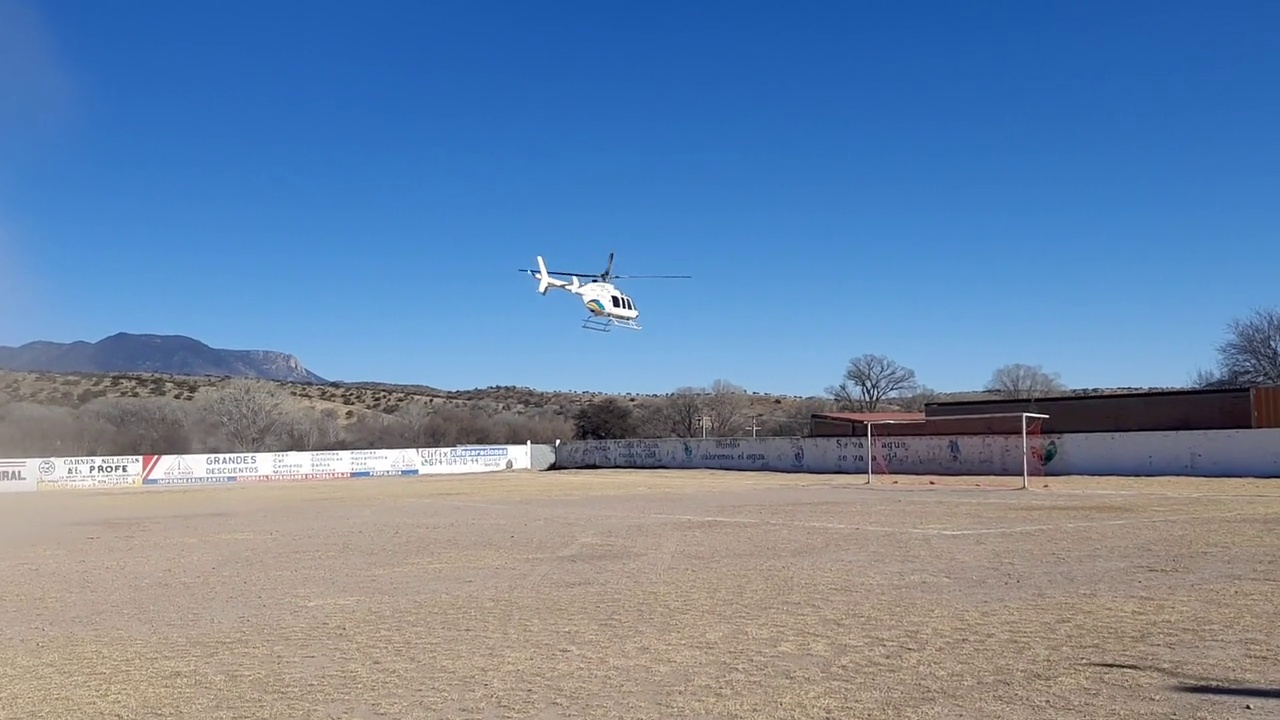heli: (517, 251, 692, 335)
